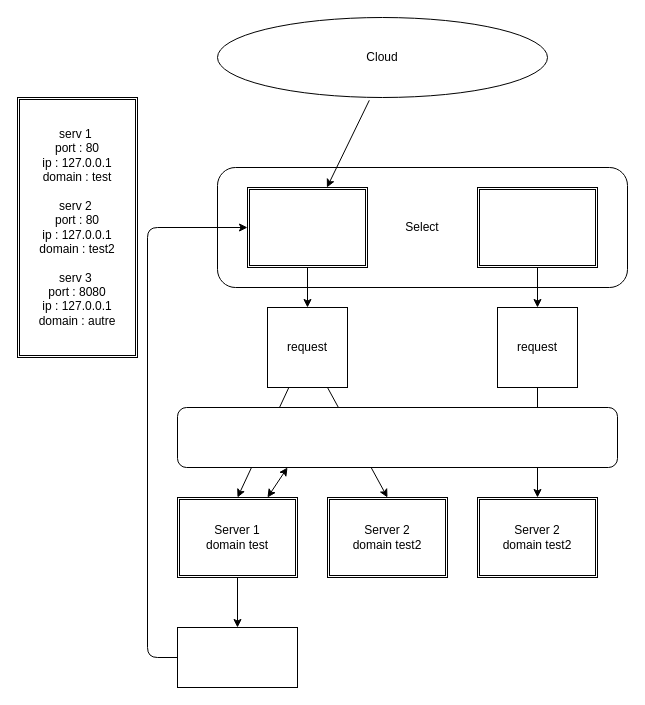
Image size: 645x705. Some labels were removed from this diagram. The centre of each missing label's shape, as x and y in pixels:
Binding IO Socket ip 127.0.0.1 port 80: point 307,227
request manager: point 397,437
Response: point 237,657
Socket ip 127.0.0.1 port 8080: point 537,227
